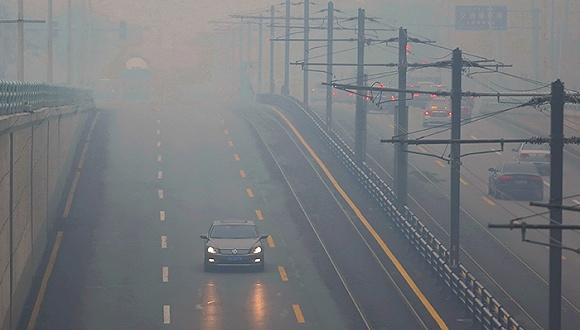car: (200, 217, 269, 272), (487, 158, 544, 201), (512, 138, 553, 176), (442, 91, 473, 125), (422, 97, 455, 128), (409, 81, 436, 107)
